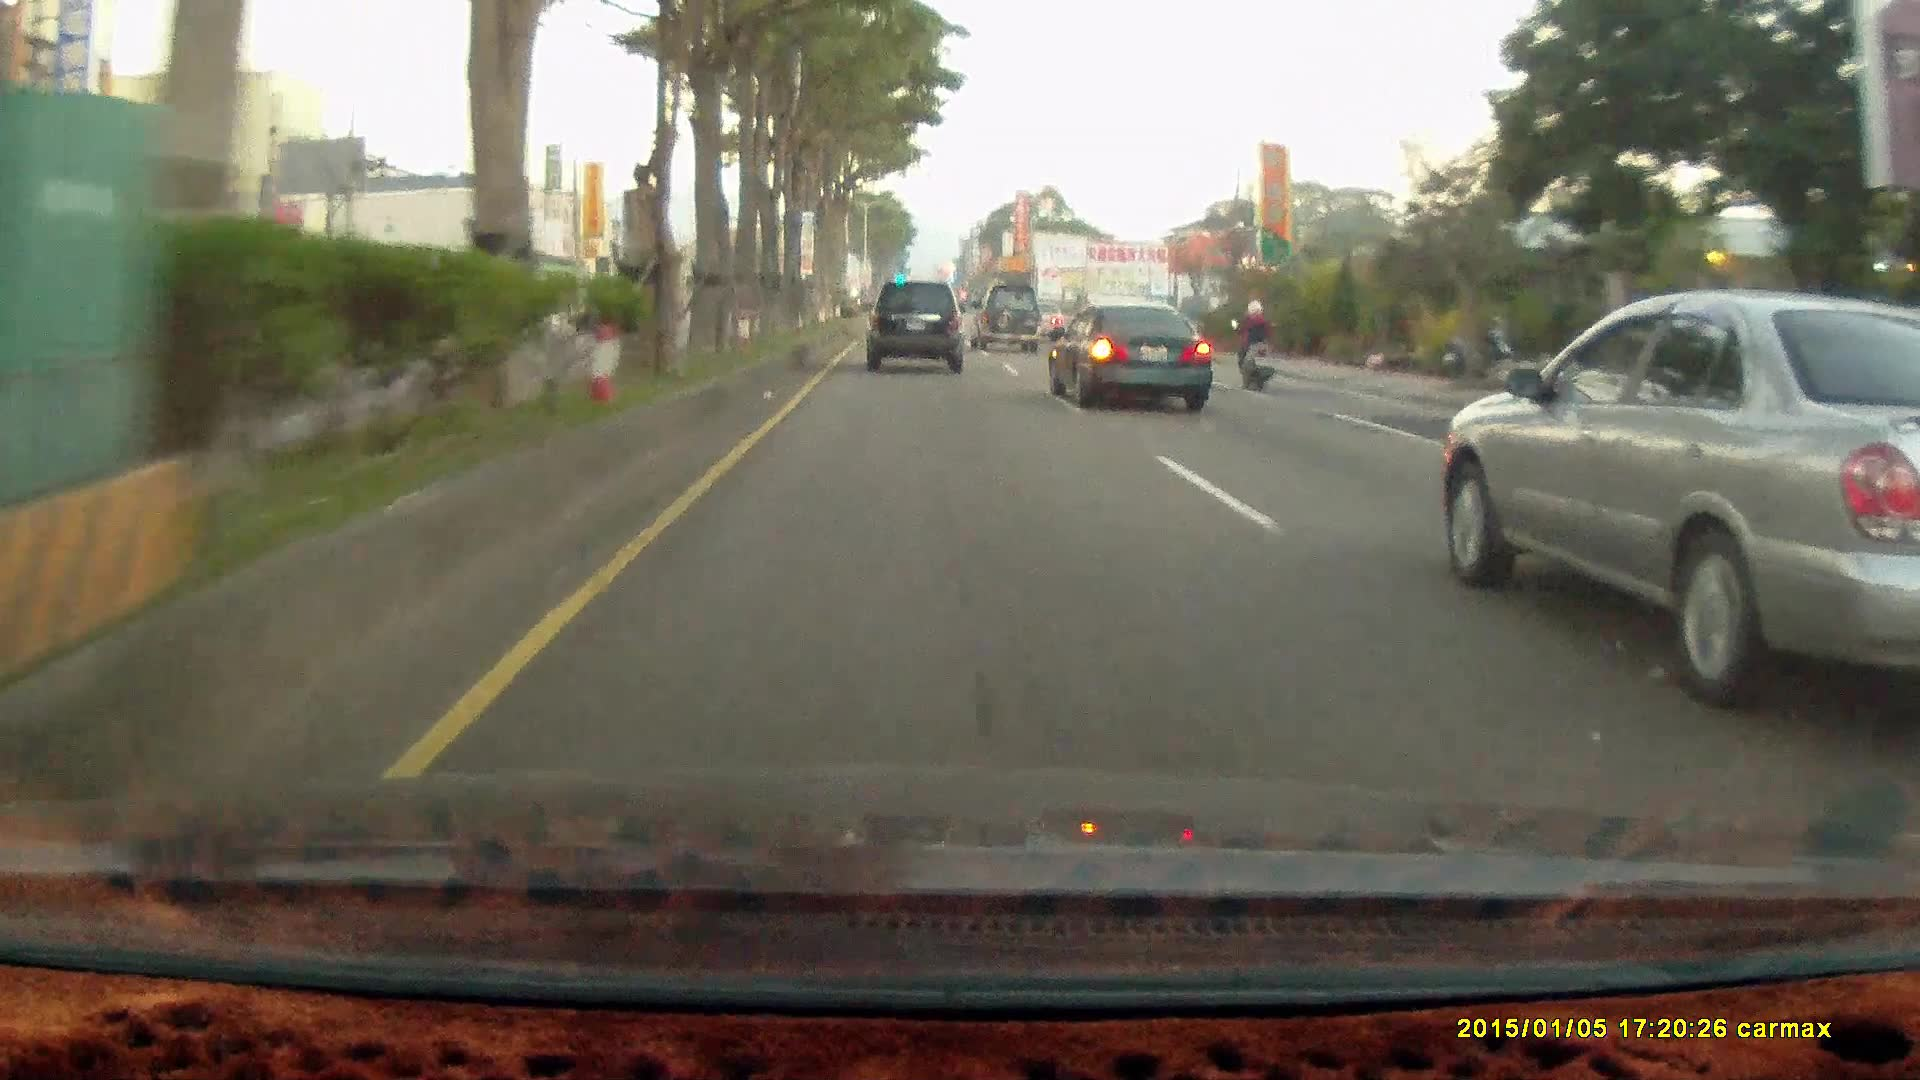rider: (1224, 287, 1285, 404), (1228, 292, 1279, 389)
vehicle: (1442, 296, 1915, 717), (1047, 301, 1218, 412), (1046, 300, 1212, 412), (865, 278, 973, 379), (861, 282, 962, 373), (972, 282, 1045, 352), (971, 285, 1040, 352)
